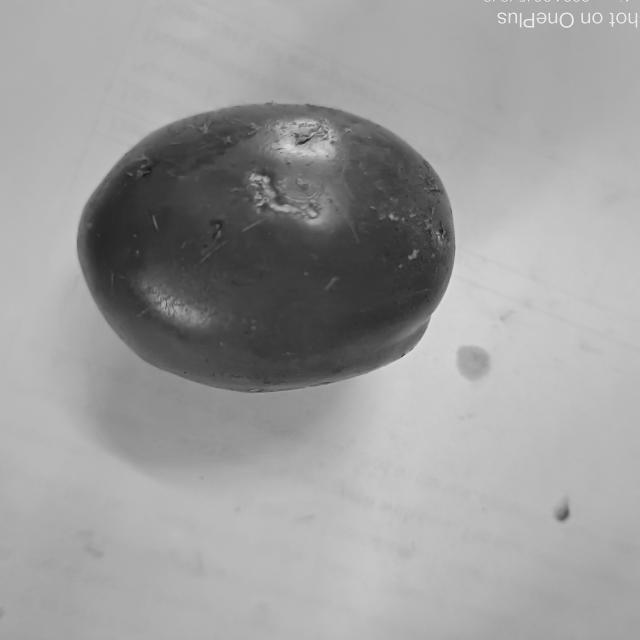Bacterial_Spot: (247, 174, 343, 228), (422, 219, 458, 258), (203, 211, 233, 246), (136, 160, 156, 188)
